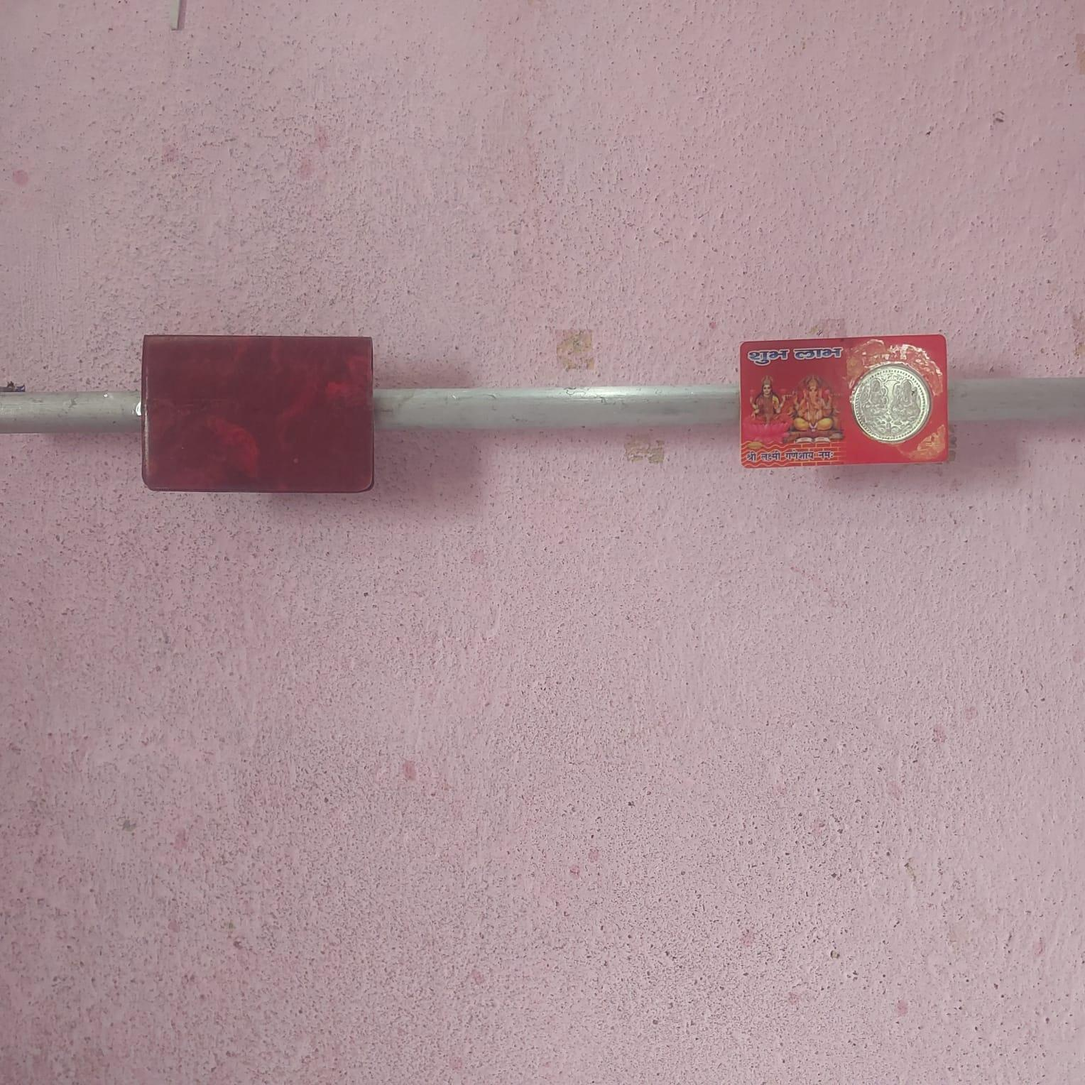blessing_card: (743, 333, 956, 467)
wallet: (137, 331, 383, 488)
